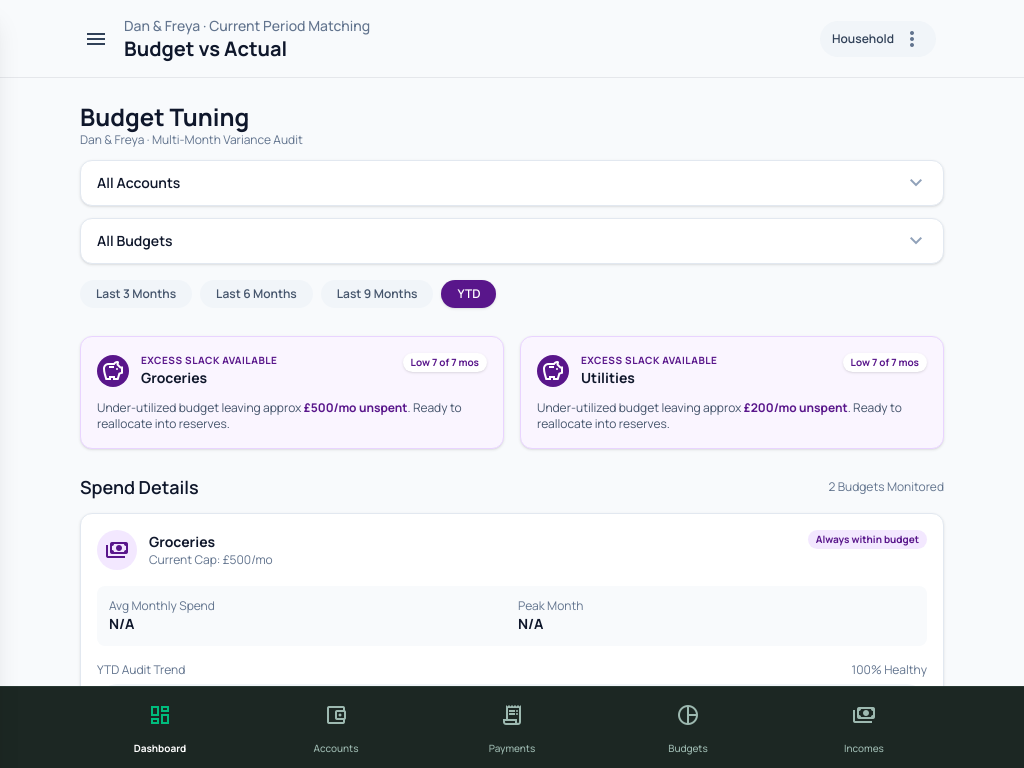
Test: BudgetReviewPage › filters displayed categories in Spend Details when a budget is selected
Expected: the heading "Groceries" in the row of "Utilities" is shown, [141, 368, 207, 387]
Expected: the heading "Utilities" is shown, [581, 368, 635, 387]
# Select Groceries from budget dropdown
Select "Groceries" in the 2nd dropdown at [512, 241], box [80, 218, 944, 264]
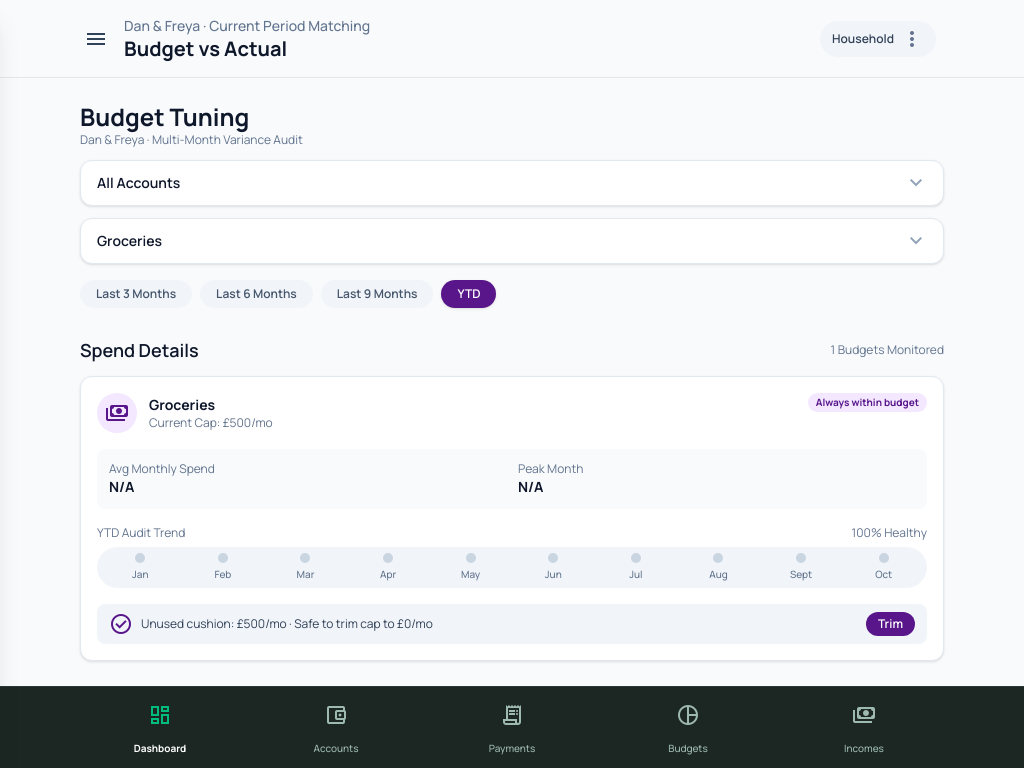
Expected: the heading "Groceries" is shown, [149, 395, 215, 414]
Expected: the heading "Utilities" is gone
